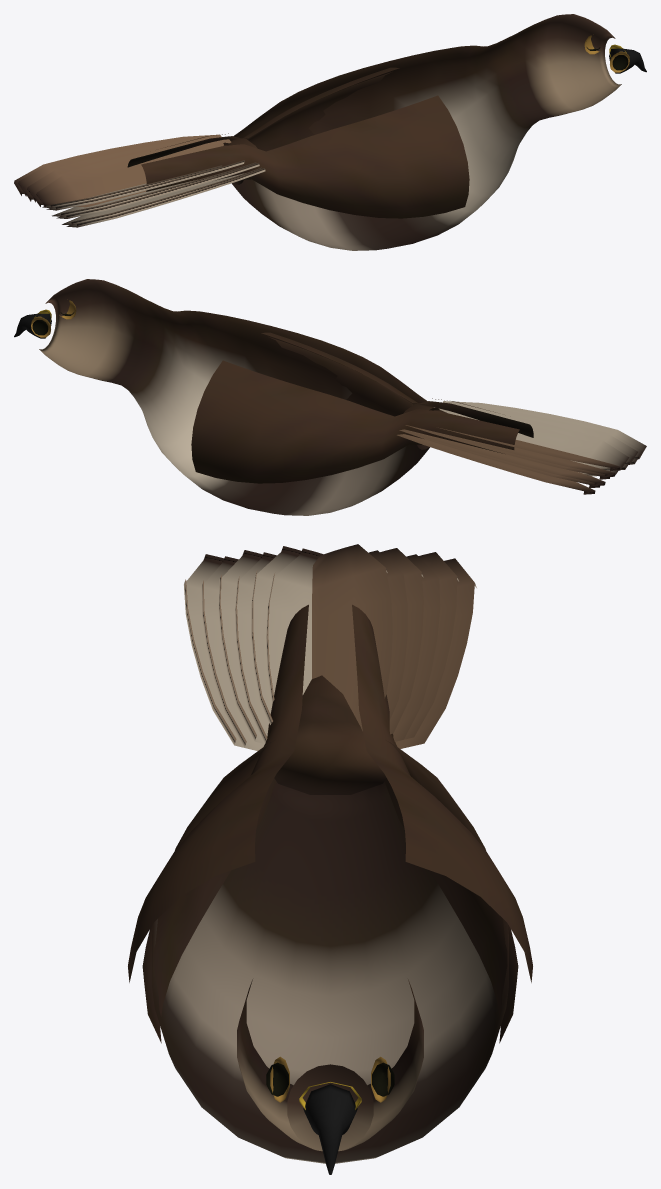
Rendered from SM_Bird_buzzard_closed.glb.
3 renders of one model, top to bottom at view 1: azimuth 30°, elevation 25°; view 2: azimuth 150°, elevation 25°; view 3: azimuth 270°, elevation 25°, orthographic. The views are drawn at different scales.
Parts seen in each view (by area): view 1: SM_Bird_buzzard_closed; view 2: SM_Bird_buzzard_closed; view 3: SM_Bird_buzzard_closed.
Part boxes in pixels (box(x1,y1,x2,y2)): SM_Bird_buzzard_closed: box(14, 14, 646, 250); SM_Bird_buzzard_closed: box(14, 279, 646, 515); SM_Bird_buzzard_closed: box(128, 544, 532, 1174).
Size of the model in its own units: 0.5872 by 0.1652 by 0.1708.
